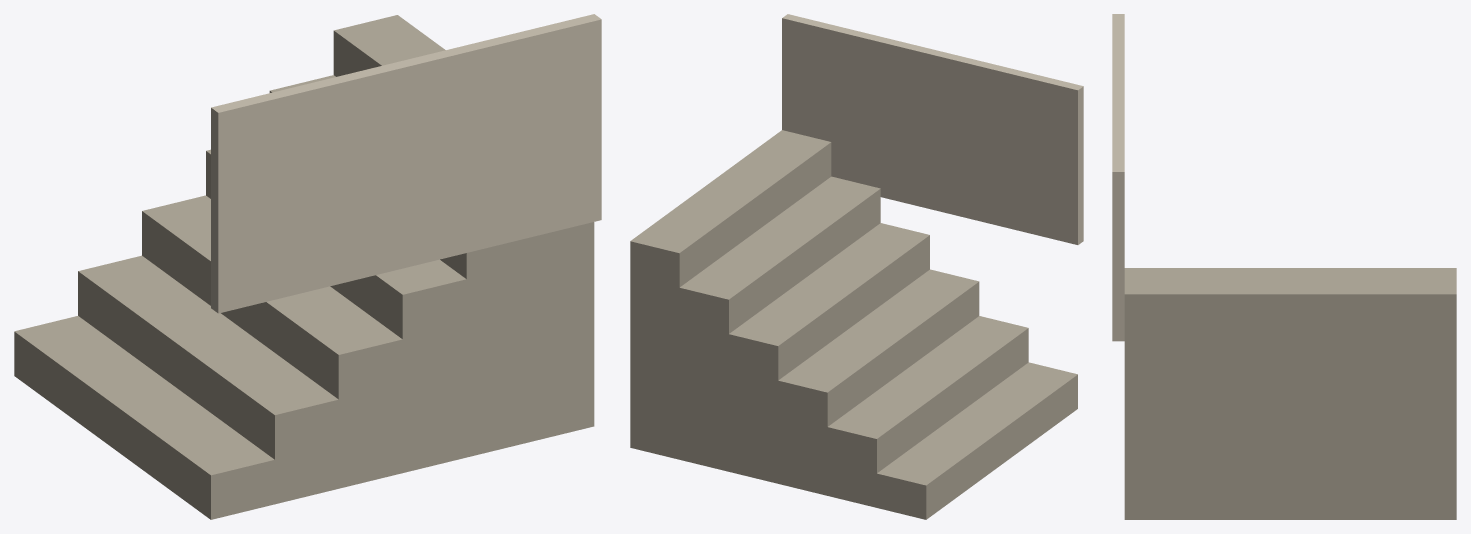
The model's file is high_stairs_up.glb.
The picture shows the model from 3 angles, left to right: view 1: azimuth 30°, elevation 25°; view 2: azimuth 150°, elevation 25°; view 3: azimuth 270°, elevation 25°; orthographic projection. The views are drawn at different scales.
Parts seen in each view (by area): view 1: Box7, Box2, Box1, Box3, Box6, Box4, Box5; view 2: Box7, Box6, Box5, Box4, Box3, Box2, Box1; view 3: Box6, Box7.
Part boxes in pixels (x1,y1,x2,y2): Box7: (211, 14, 601, 313); Box2: (78, 255, 338, 504); Box1: (14, 316, 274, 519); Box3: (142, 195, 402, 488); Box6: (333, 15, 594, 441); Box4: (206, 149, 466, 472); Box5: (269, 75, 530, 457); Box7: (782, 14, 1083, 244); Box6: (630, 130, 831, 459); Box5: (679, 176, 880, 471); Box4: (729, 223, 929, 483); Box3: (778, 269, 979, 495); Box2: (827, 316, 1028, 507); Box1: (877, 362, 1077, 519); Box6: (1124, 268, 1456, 519); Box7: (1112, 14, 1124, 341).
Bounding box in the file's own units: 1.8 × 1.85 × 1.66.
